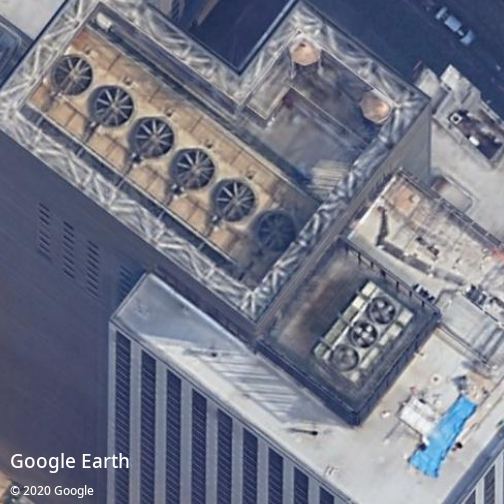Vent: (94, 87, 135, 128), (134, 118, 175, 159), (53, 56, 93, 97), (175, 149, 216, 189), (215, 181, 256, 221), (257, 212, 297, 253), (351, 321, 379, 349), (369, 298, 397, 325), (332, 346, 359, 372)
